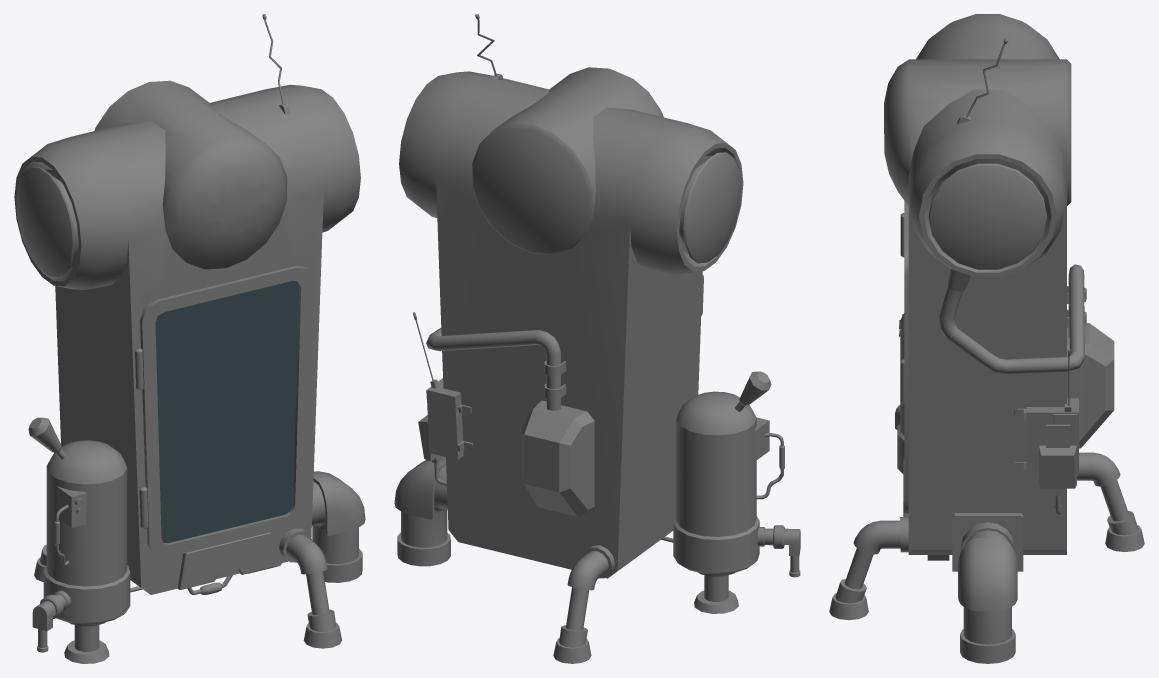
The picture shows the model from 3 angles, left to right: view 1: azimuth 30°, elevation 25°; view 2: azimuth 150°, elevation 25°; view 3: azimuth 270°, elevation 25°; orthographic projection. The views are drawn at different scales.
Parts seen in each view (by area): view 1: wardrobe, wardrobe_glass; view 2: wardrobe; view 3: wardrobe.
Part boxes in pixels (box(x1,y1,x2,y2)): wardrobe: box(14, 14, 365, 663); wardrobe_glass: box(155, 281, 299, 543); wardrobe: box(394, 14, 800, 663); wardrobe: box(829, 14, 1144, 663).
Size of the model in its own units: 96.75 by 144 by 70.63.
